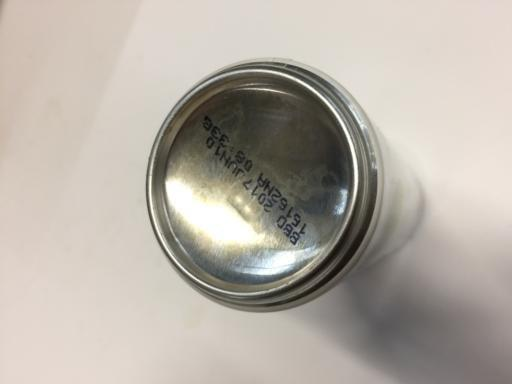kaleng: (147, 57, 424, 305)
